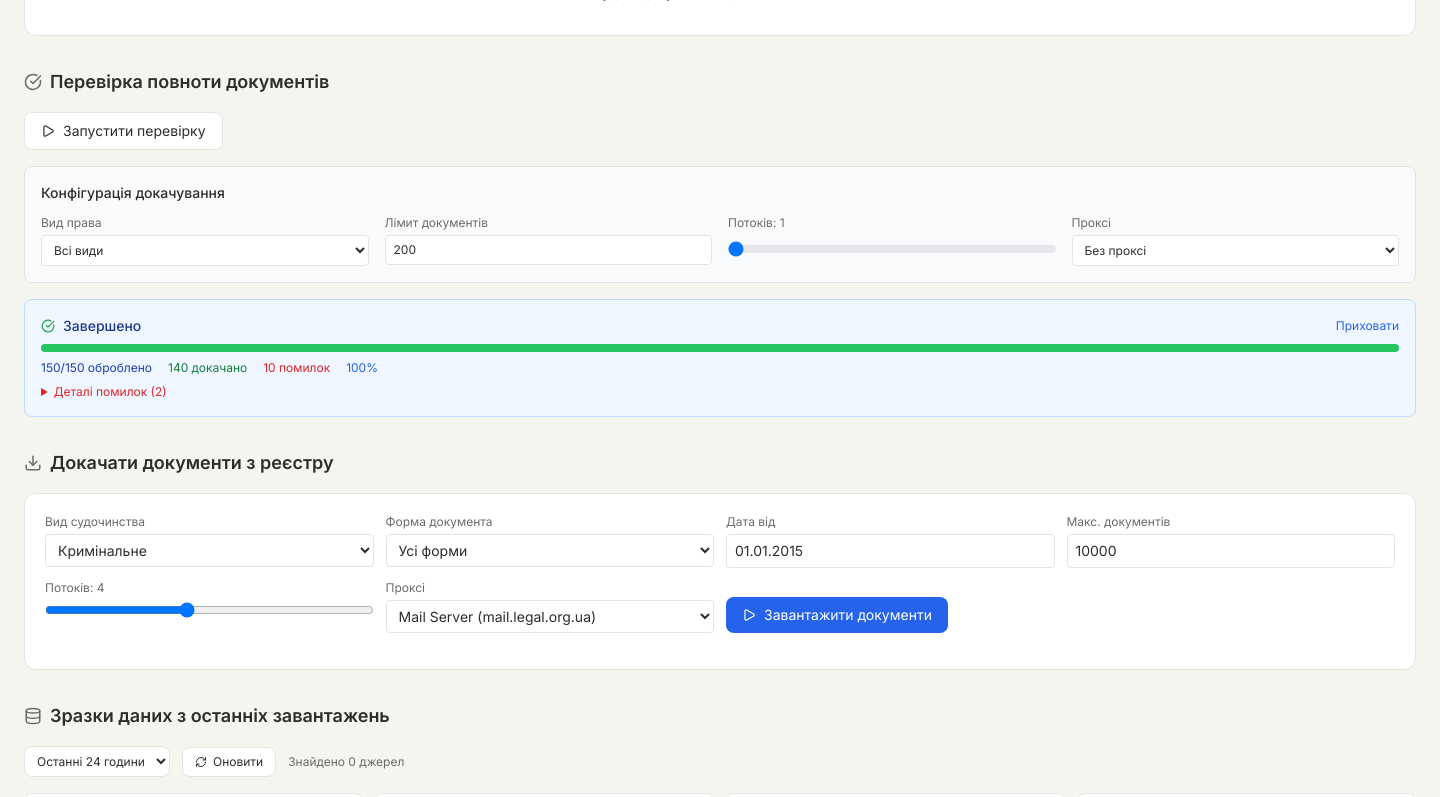
Test: Document Completeness & Backfill › Backfill - Error Details › shows error details expandable after completion
(page scrolled)
Check: the text "Завершено" is shown, box [63, 316, 141, 336]
What coordinates should you click on to do the following:
click the heading "Деталі помилок (2)"
I would click on:
 (110, 392)
Its box is [54, 384, 167, 399].
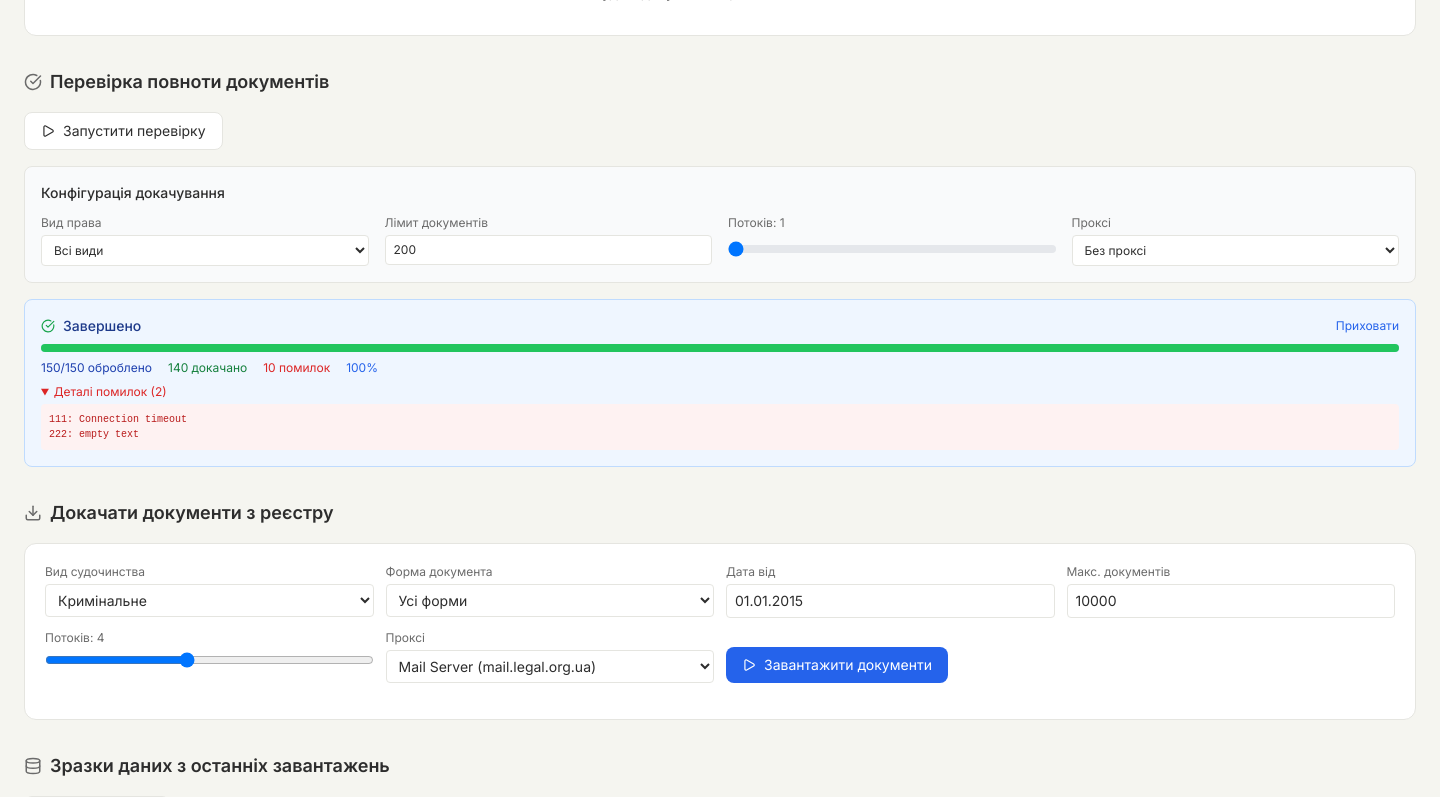
Check: the text "111: Connection timeout" is shown, box [49, 414, 187, 425]
Check: the text "222: empty text" is shown, box [49, 429, 139, 440]
